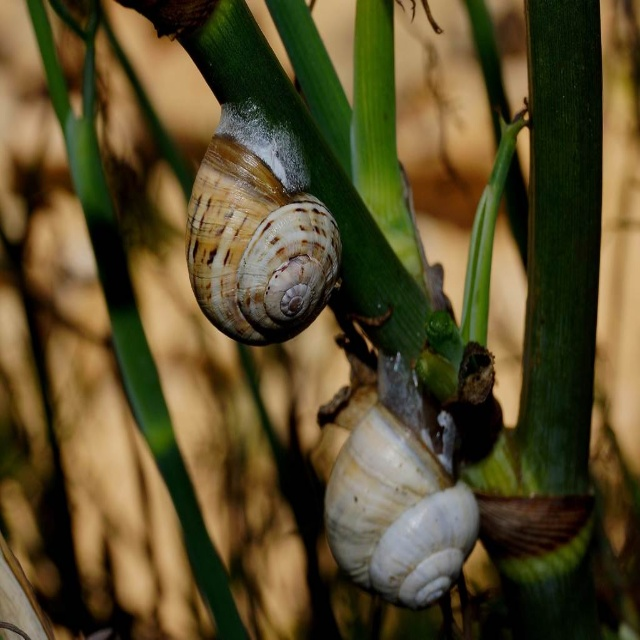Snail: (309, 354, 485, 611), (180, 96, 348, 351)
